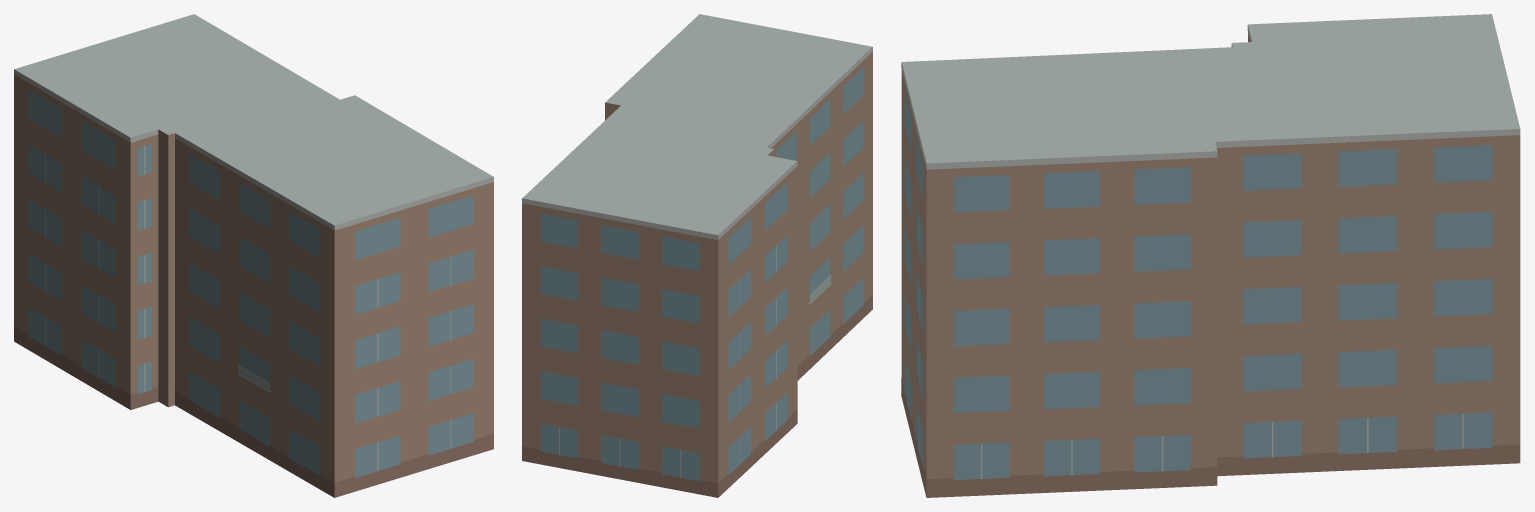
Rendered from survey-upis-32649839.glb.
3 views of the same model, side by side, from view 1: azimuth 30°, elevation 25°; view 2: azimuth 150°, elevation 25°; view 3: azimuth 270°, elevation 25° (orthographic). The views are drawn at different scales.
Parts seen in each view (by area): view 1: survey-upis-32649839.tmp; view 2: survey-upis-32649839.tmp; view 3: survey-upis-32649839.tmp.
Part boxes in pixels (box(x1,y1,x2,y2)): survey-upis-32649839.tmp: box(14, 14, 493, 497); survey-upis-32649839.tmp: box(522, 14, 872, 497); survey-upis-32649839.tmp: box(901, 14, 1520, 497).
Bounding box in the file's own units: 12.67 × 13.2 × 22.15.
